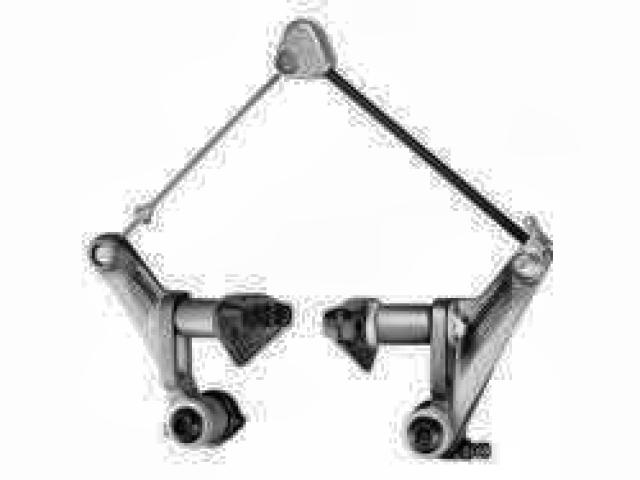rim_brake: (86, 222, 557, 464)
